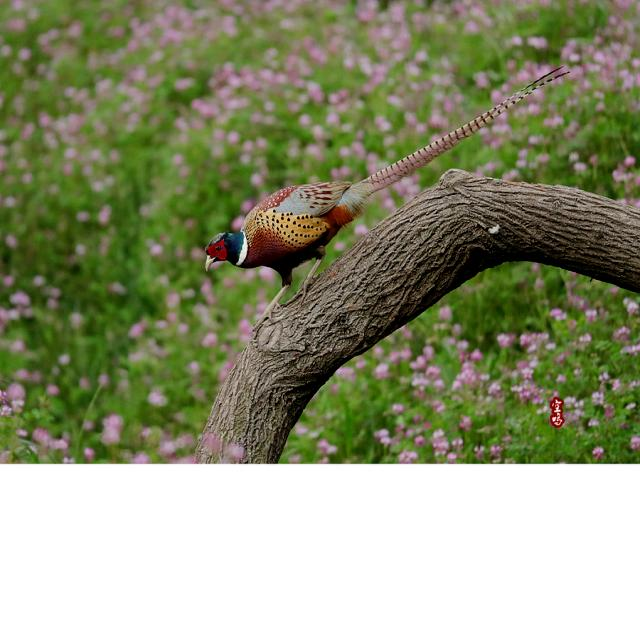Phasianus Colchicus: (356, 65, 573, 192)
